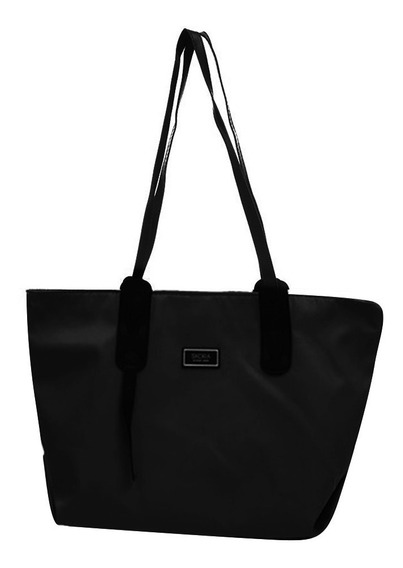cartera: (25, 27, 384, 542)
